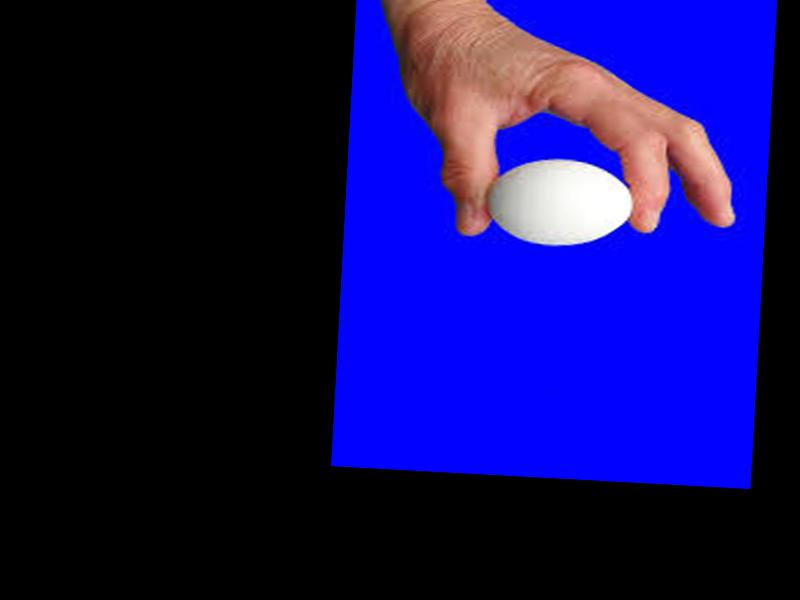Eggs: (485, 155, 637, 249)
